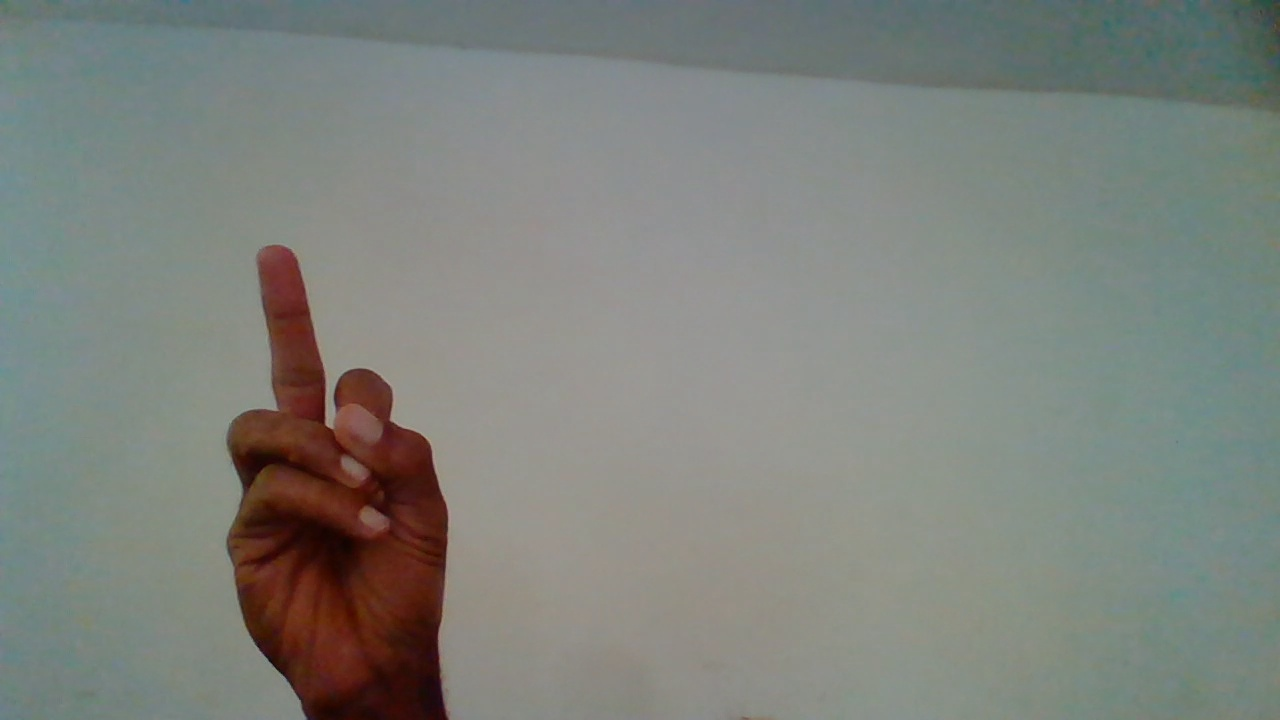he: (221, 247, 454, 715)
